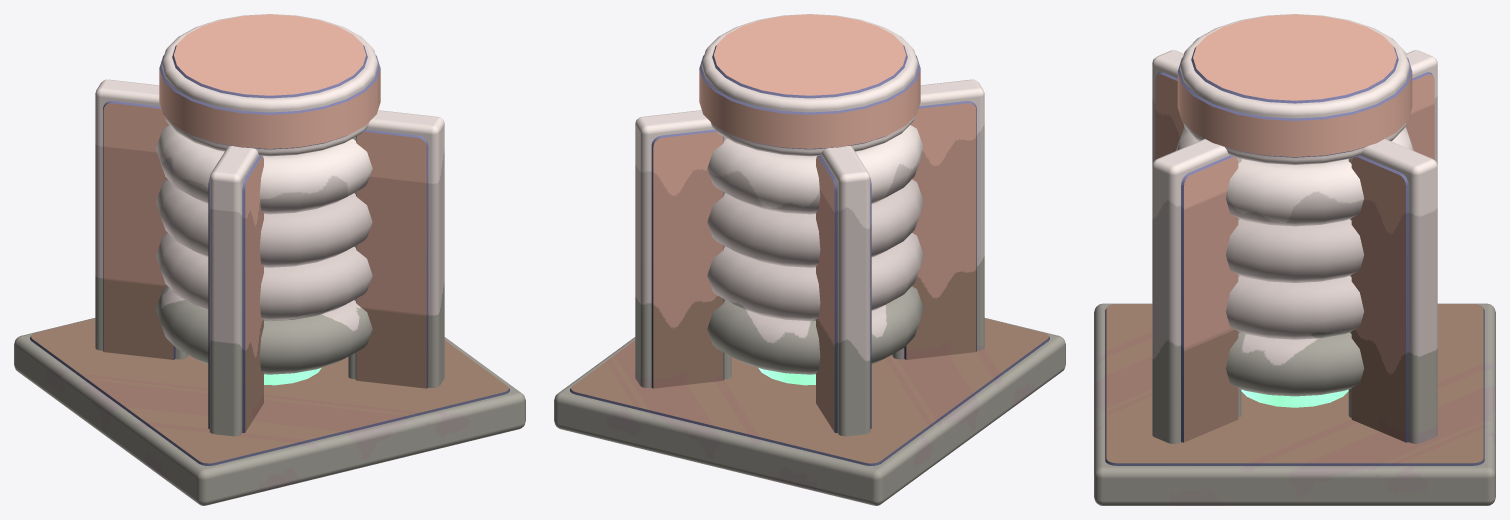
Rendered from R4X_EnergyRegenerator.glb.
The picture shows the model from 3 angles, left to right: view 1: azimuth 30°, elevation 25°; view 2: azimuth 150°, elevation 25°; view 3: azimuth 270°, elevation 25°; orthographic projection. The views are drawn at different scales.
Parts seen in each view (by area): view 1: R4X_EnergyRegenerator_Body; view 2: R4X_EnergyRegenerator_Body; view 3: R4X_EnergyRegenerator_Body.
Boxes of the visible parts, <box> form: R4X_EnergyRegenerator_Body: <box>14,14,525,505</box>; R4X_EnergyRegenerator_Body: <box>554,14,1065,505</box>; R4X_EnergyRegenerator_Body: <box>1094,14,1495,505</box>.
Size of the model in its own units: 0.514 by 0.52 by 0.514.
Materials: 4 (3 with a texture image).
